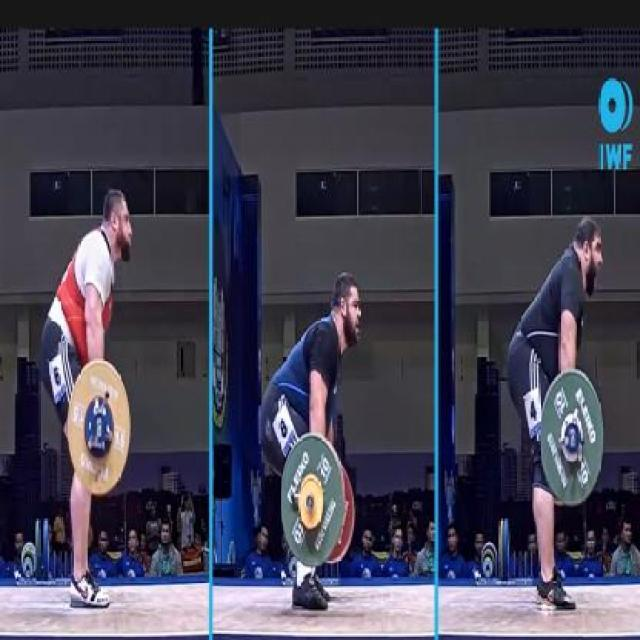Barbell: (87, 404, 110, 450), (565, 418, 581, 457), (303, 488, 317, 514)
